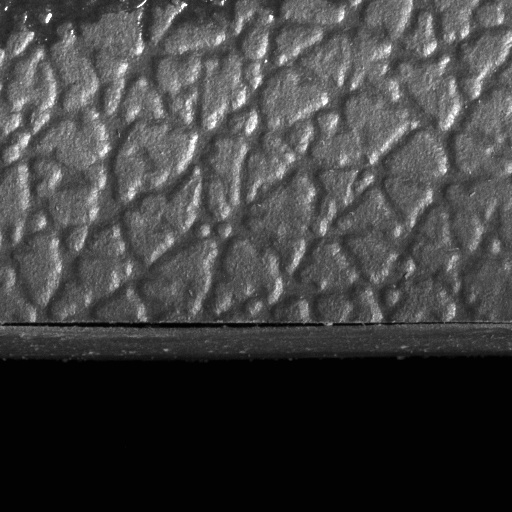jiaofeng: (0, 320, 393, 337)
